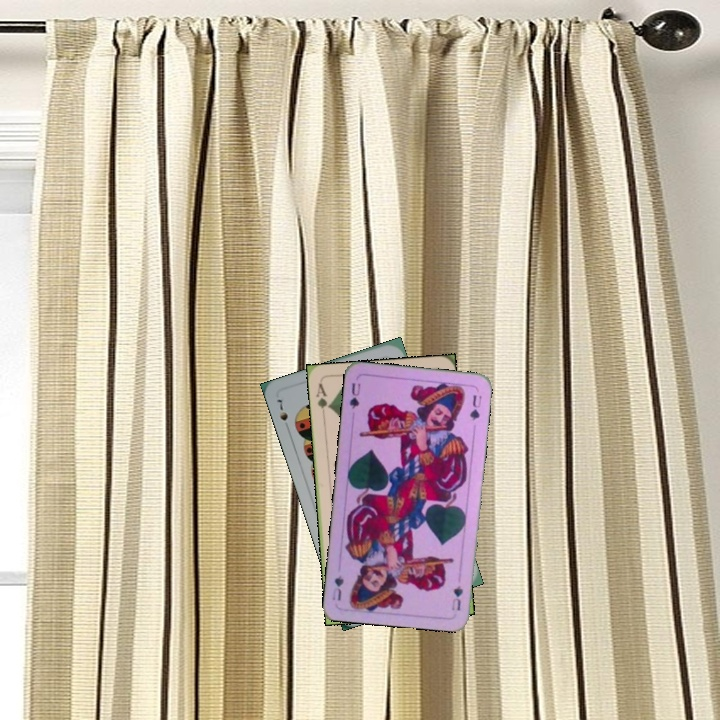GA: (312, 379, 333, 420)
GU: (345, 379, 363, 411), (448, 582, 465, 613)
S7: (273, 395, 292, 433)
